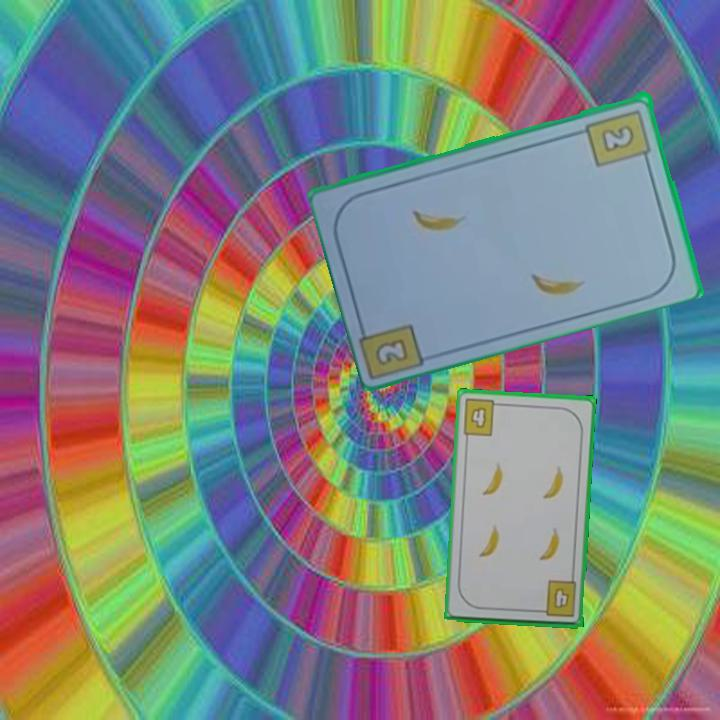2b: (583, 105, 654, 169), (371, 334, 412, 369)
4b: (459, 395, 504, 439), (534, 577, 579, 620)
